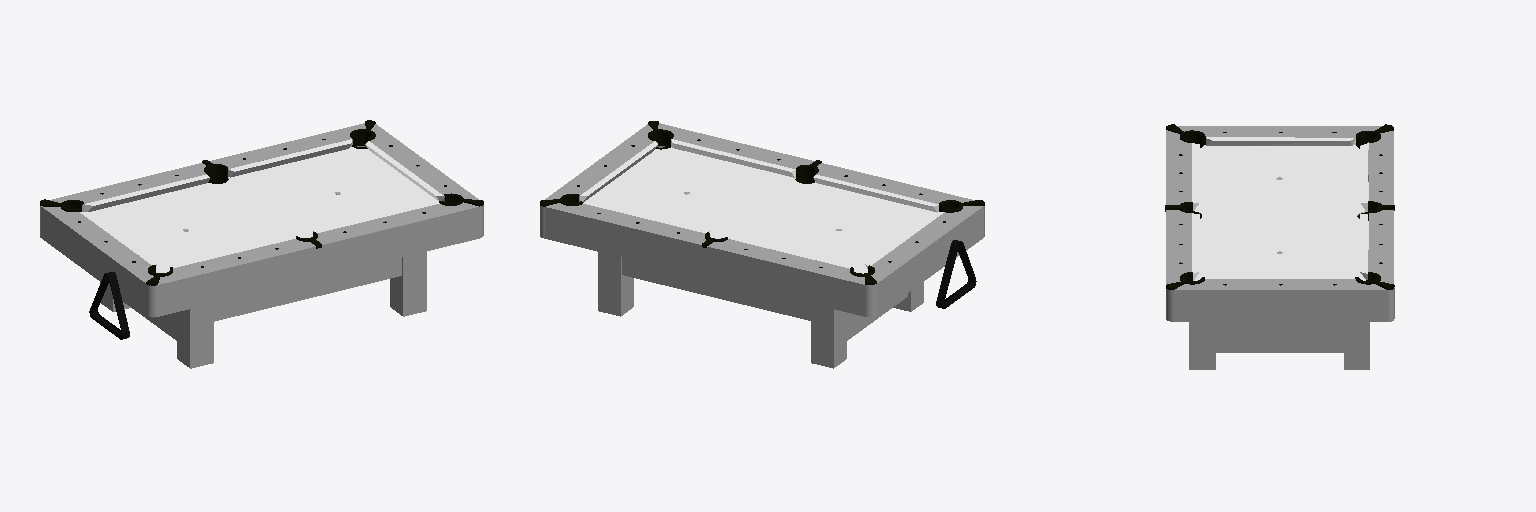
File: pool-table.obj
The picture shows the model from 3 angles: view 1: azimuth 30°, elevation 25°; view 2: azimuth 150°, elevation 25°; view 3: azimuth 270°, elevation 25°; orthographic projection.
Parts seen in each view (by area): view 1: pooltable, triangle; view 2: pooltable, triangle; view 3: pooltable.
Boxes of the visible parts, box(x1,y1,x2,y2) form: pooltable: box(40, 120, 483, 368); triangle: box(89, 272, 129, 339); pooltable: box(540, 121, 984, 368); triangle: box(936, 240, 976, 308); pooltable: box(1165, 124, 1394, 369).
Size of the model in its own units: 74.2 by 21.49 by 42.43.